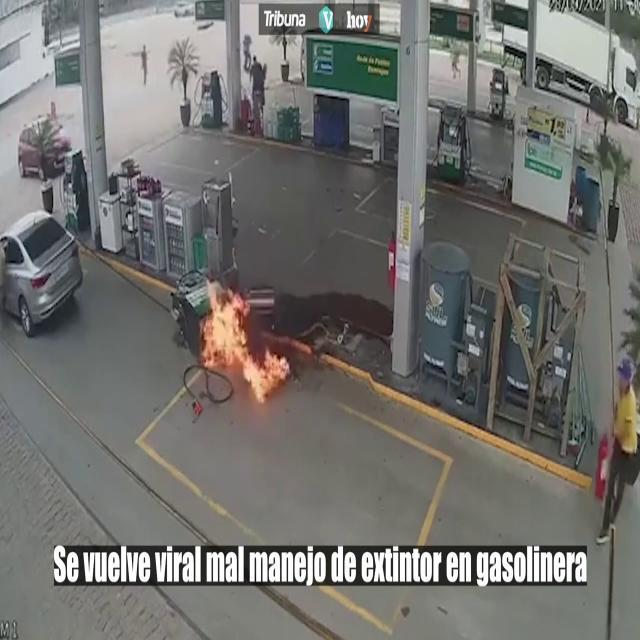Fire: (197, 278, 287, 402)
